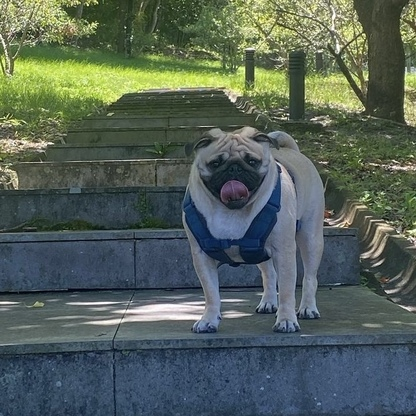Pug: (175, 123, 332, 338)
